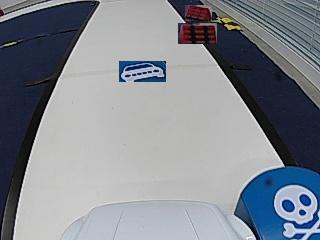danger: (273, 181, 319, 237)
